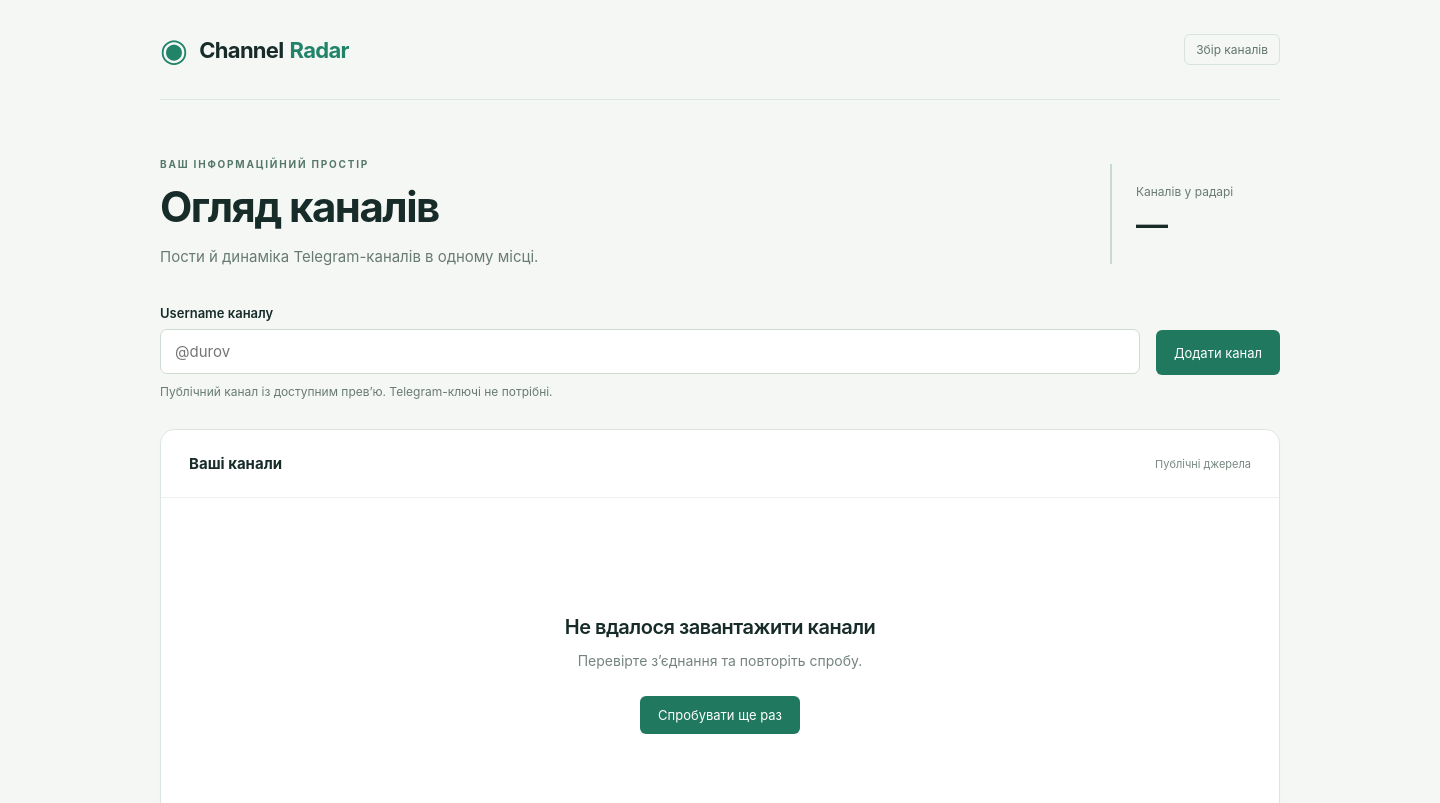
Scenario: channel overview › lets the user retry an API error
The image size is (1440, 803).
Check: the message shows "Не вдалося завантажити канали", box 565,615 -> 875,639
Step 1. Click the button "Спробувати ще раз" → [720, 715], box 640,696 -> 800,734
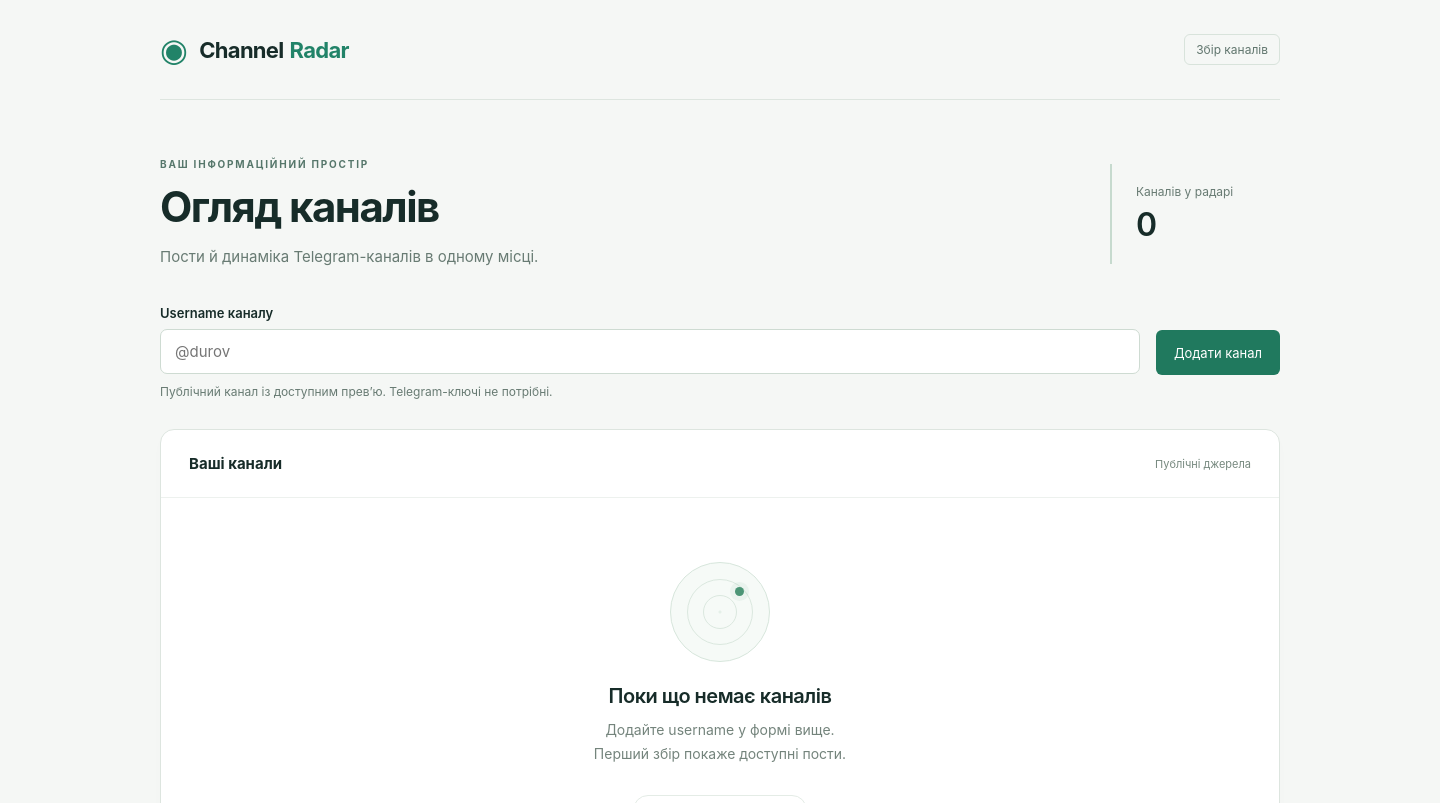
Check: the heading "Поки що немає каналів" is shown, box 609,684 -> 831,708
